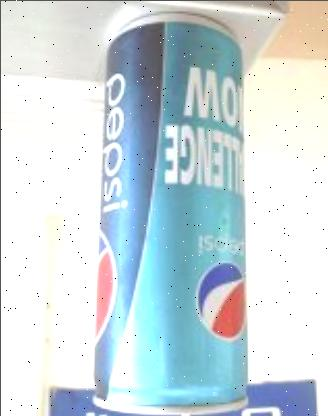Can: (94, 15, 252, 413)
